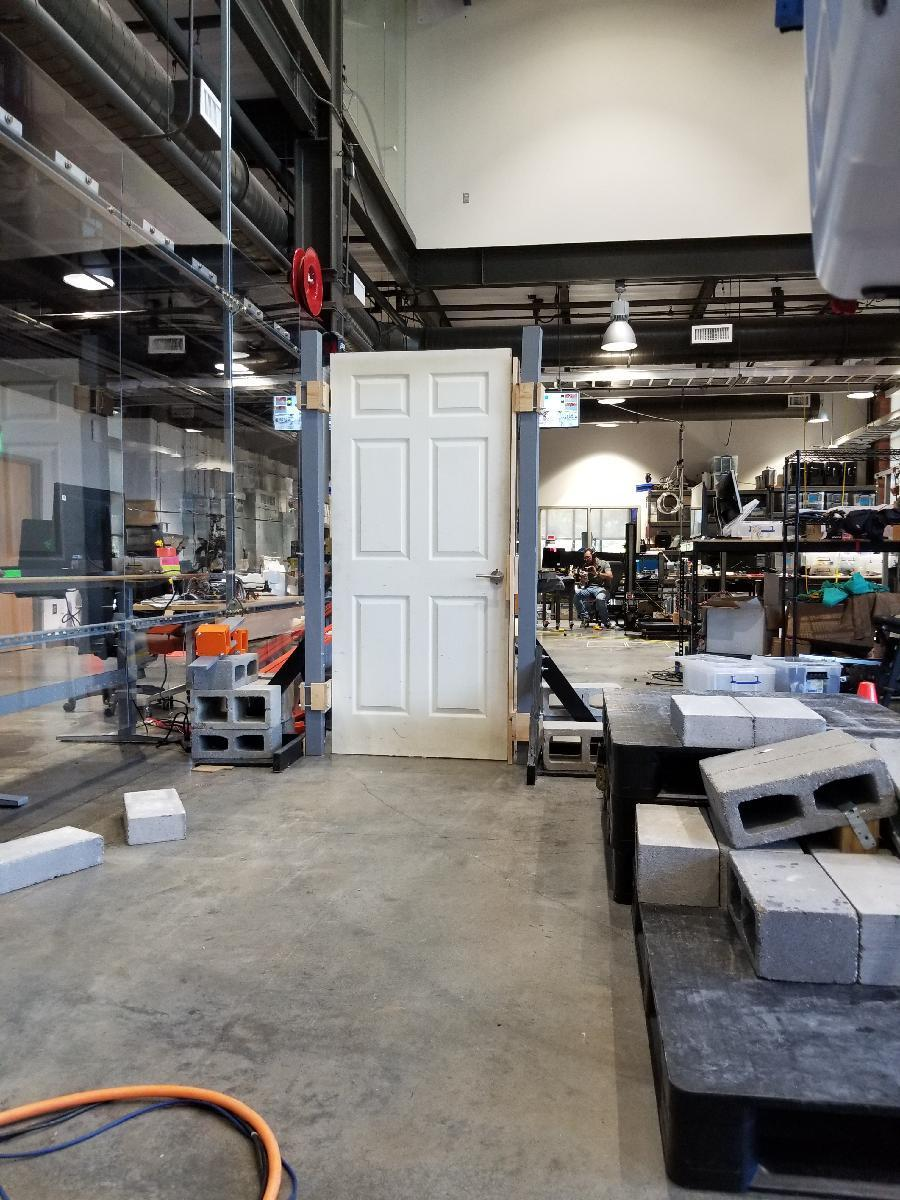door: (328, 341, 512, 761)
handle: (474, 568, 506, 586)
